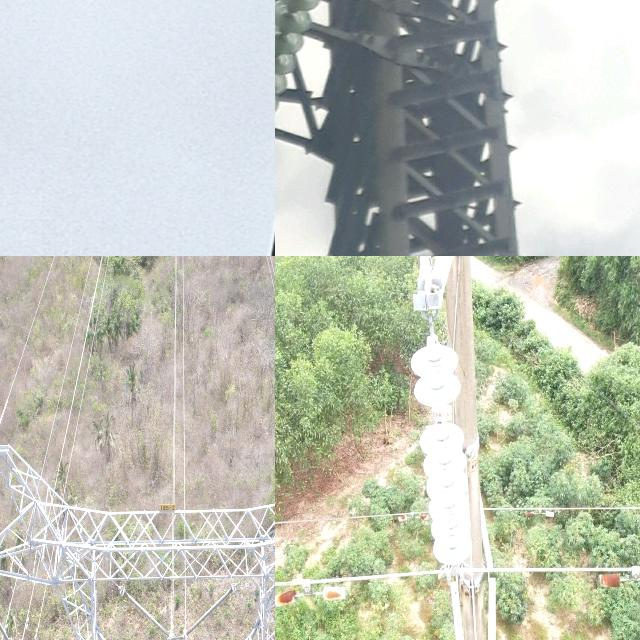杆塔: (275, 0, 530, 256), (0, 427, 275, 640), (393, 256, 521, 640)
正常绝缘子: (406, 326, 482, 576), (275, 0, 334, 147), (118, 581, 173, 640), (183, 582, 237, 640), (0, 570, 14, 640)
绝缘子破损: (431, 408, 449, 430)
